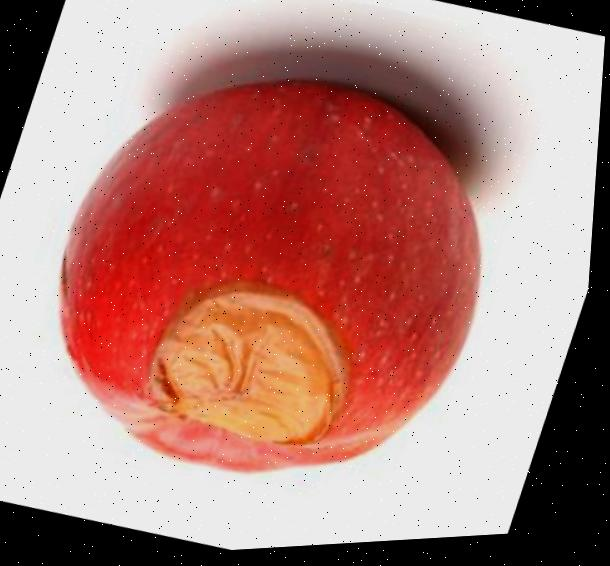ROT: (0, 0, 573, 555)
